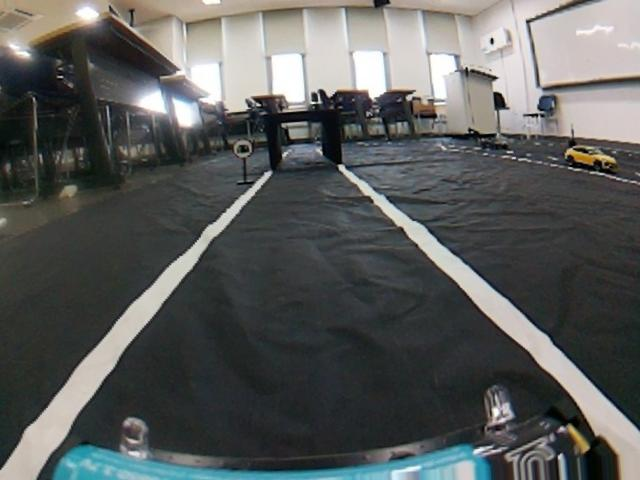sign_tunnel: (233, 140, 258, 160)
straight: (1, 215, 640, 479)
